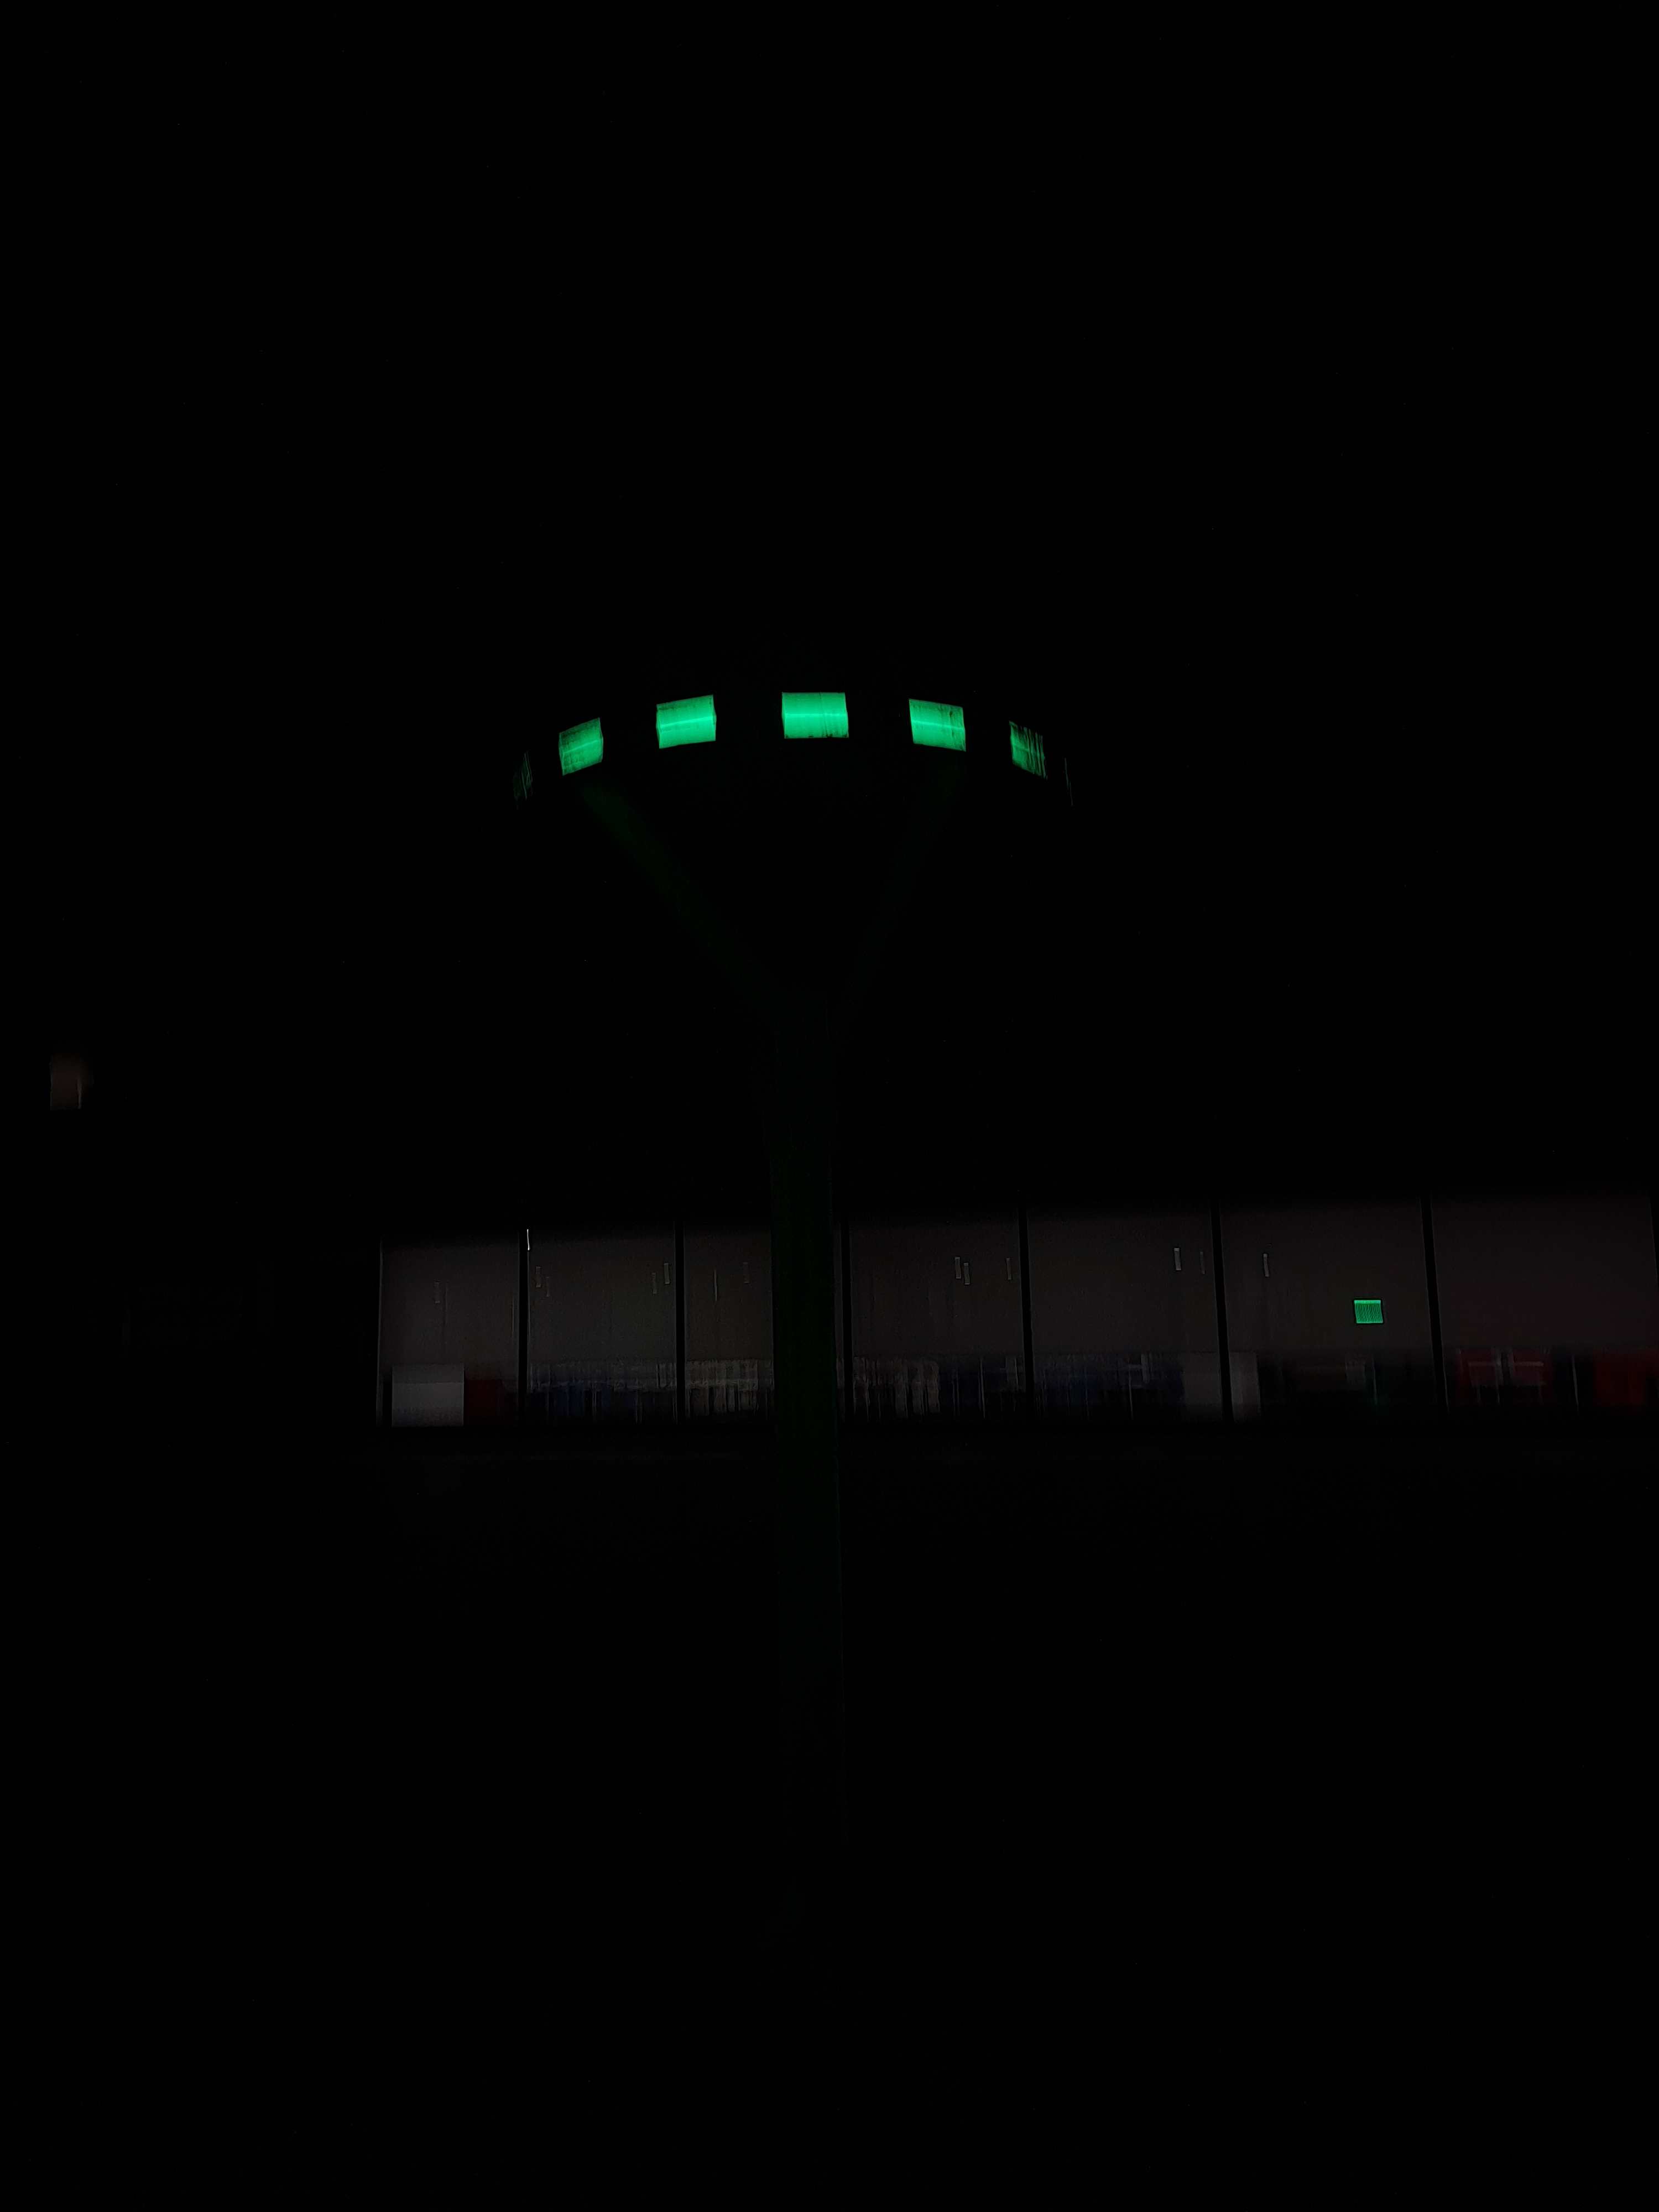hoop: (547, 688, 1054, 810)
